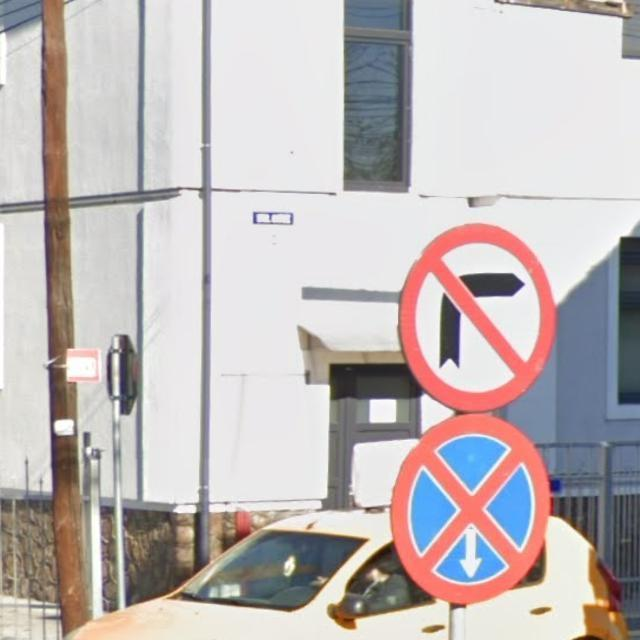forb_waiting: (392, 413, 554, 601)
